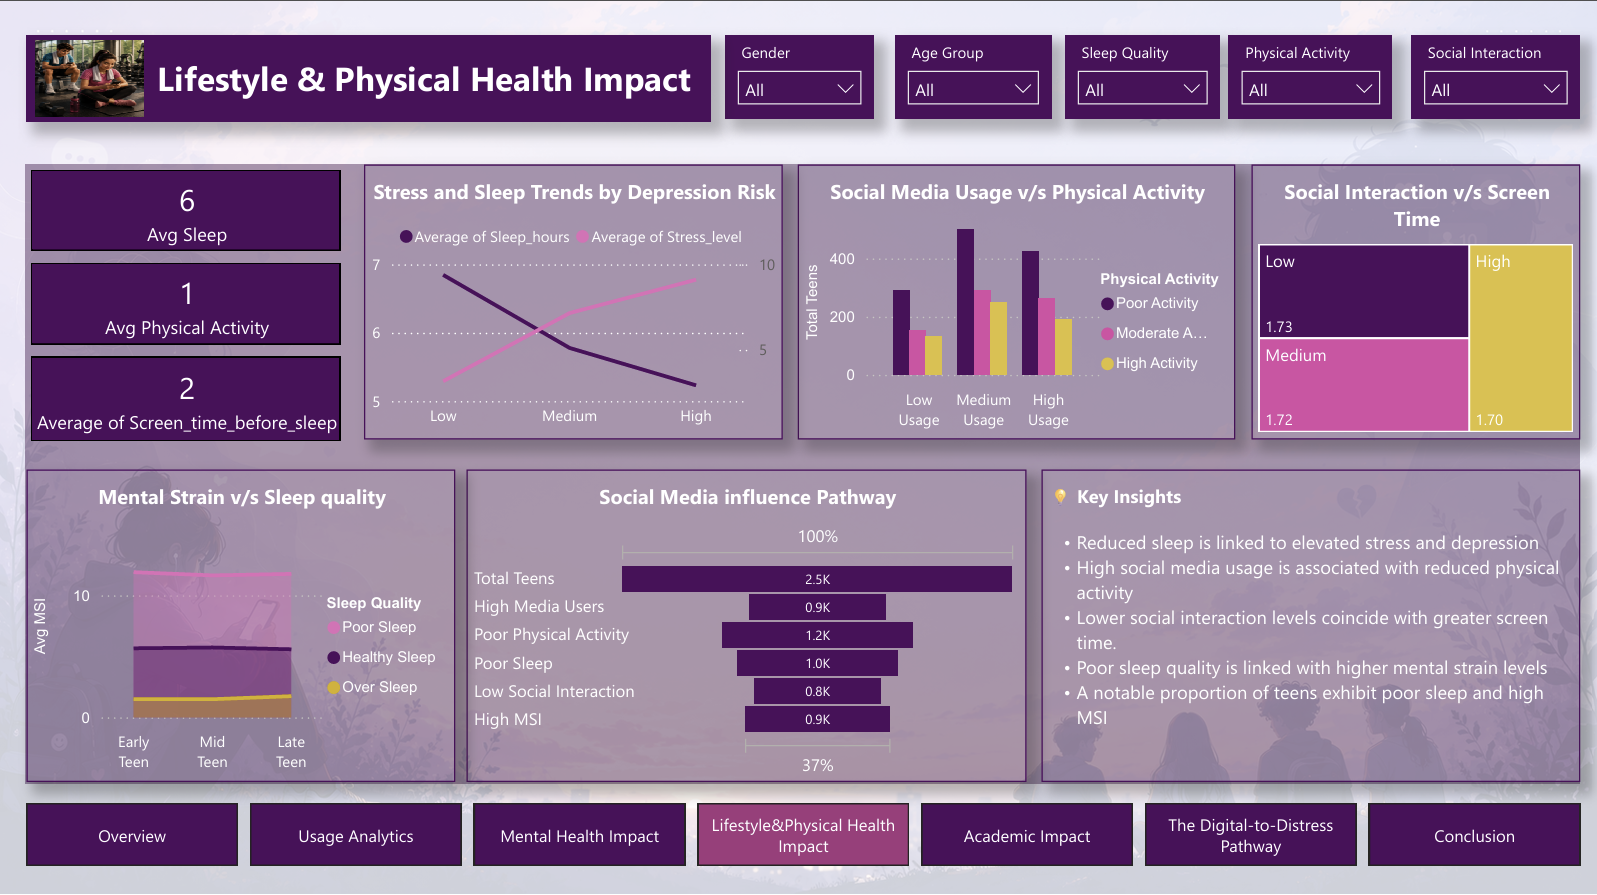

This screenshot's page, from the dashboard's own definition file:
{"tool":"powerbi","page":{"name":"Lifestyle&Physical Health Impact","canvas":[1280,720],"ordinal":3},"visuals":[{"type":"slicer","fields":{"Values":["Teen_Mental_Health_Dataset.Gender"]},"box":[581.2,31,119,67],"z":0},{"type":"slicer","fields":{"Values":["Teen_Mental_Health_Dataset.Age Group"]},"box":[717,31,125,67],"z":1000},{"type":"slicer","fields":{"Values":["Teen_Mental_Health_Dataset.Sleep Quality"]},"box":[853,31,124,67],"z":2000},{"type":"slicer","fields":{"Values":["Teen_Mental_Health_Dataset.Physical Activity Status"]},"box":[984,31,131,67],"z":3000},{"type":"slicer","fields":{"Values":["Teen_Mental_Health_Dataset.Social_interaction_level"]},"box":[1130,31,135,67],"z":4000},{"type":"funnel","title":"Social Media influence Pathway","fields":{"Y":["DAX measures.Total Teens","DAX measures.High Media Users","DAX measures.Poor Physical Activity","DAX measures.Poor Sleep","DAX measures.Low Social Interaction","DAX measures.High MSI"]},"box":[374,378,448,250],"z":5000},{"type":"textbox","box":[22,31,548.2,69],"z":6000},{"type":"areaChart","title":"Mental Strain v/s Sleep quality","fields":{"Category":["Teen_Mental_Health_Dataset.Age Group"],"Series":["Teen_Mental_Health_Dataset.Sleep Quality"],"Y":["Avg(Teen_Mental_Health_Dataset.Mental Strain Index(MSI))"]},"box":[22,378,343,250],"z":7000},{"type":"lineClusteredColumnComboChart","title":"Social Media Usage v/s Physical Activity","fields":{"Category":["Teen_Mental_Health_Dataset.Social Media Usage Status"],"Series":["Teen_Mental_Health_Dataset.Physical Activity Status"],"Y":["DAX measures.Total Teens"]},"box":[639,134,350,220],"z":8000},{"type":"treemap","title":"Social Interaction v/s Screen Time","fields":{"Group":["Teen_Mental_Health_Dataset.Social_interaction_level"],"Values":["Avg(Teen_Mental_Health_Dataset.Screen_time_before_sleep)"]},"box":[1002,134,263,220],"z":9000},{"type":"lineChart","title":"Stress and Sleep Trends by Depression Risk","fields":{"Y":["Avg(Teen_Mental_Health_Dataset.Sleep_hours)"],"Category":["Teen_Mental_Health_Dataset.Depression_risk"],"Y2":["Avg(Teen_Mental_Health_Dataset.Stress_level)"]},"box":[292,134,335,220],"z":10000},{"type":"pageNavigator","box":[22,645,1243,50],"z":11000},{"type":"cardVisual","fields":{"Data":["DAX measures.Avg Sleep"]},"box":[21,134,257,74],"z":12000},{"type":"cardVisual","fields":{"Data":["Avg(Teen_Mental_Health_Dataset.Screen_time_before_sleep)"]},"box":[21,283,257,77],"z":13000},{"type":"cardVisual","fields":{"Data":["DAX measures.Avg Physical Activity"]},"box":[21,208,257,75],"z":14000},{"type":"textbox","box":[834,378,431,250],"z":15000},{"type":"image","box":[29.4,35.3,86.2,60.8],"z":16000}]}

Visuals, with their boxes in screenshot pixels (x1, y1, x2, y2), scaled from the page's 1280x720 canvas onto the 1597x895 screenshot:
slicer - Teen_Mental_Health_Dataset.Gender: bbox=(725, 39, 874, 122)
slicer - Teen_Mental_Health_Dataset.Age Group: bbox=(895, 39, 1051, 122)
slicer - Teen_Mental_Health_Dataset.Sleep Quality: bbox=(1064, 39, 1219, 122)
slicer - Teen_Mental_Health_Dataset.Physical Activity Status: bbox=(1228, 39, 1391, 122)
slicer - Teen_Mental_Health_Dataset.Social_interaction_level: bbox=(1410, 39, 1578, 122)
"Social Media influence Pathway" funnel: bbox=(467, 470, 1026, 781)
textbox: bbox=(27, 39, 711, 124)
"Mental Strain v/s Sleep quality" areaChart: bbox=(27, 470, 455, 781)
"Social Media Usage v/s Physical Activity" lineClusteredColumnComboChart: bbox=(797, 167, 1234, 440)
"Social Interaction v/s Screen Time" treemap: bbox=(1250, 167, 1578, 440)
"Stress and Sleep Trends by Depression Risk" lineChart: bbox=(364, 167, 782, 440)
pageNavigator: bbox=(27, 802, 1578, 864)
cardVisual - DAX measures.Avg Sleep: bbox=(26, 167, 347, 259)
cardVisual - Avg(Teen_Mental_Health_Dataset.Screen_time_before_sleep): bbox=(26, 352, 347, 448)
cardVisual - DAX measures.Avg Physical Activity: bbox=(26, 259, 347, 352)
textbox: bbox=(1041, 470, 1578, 781)
image: bbox=(37, 44, 144, 119)
